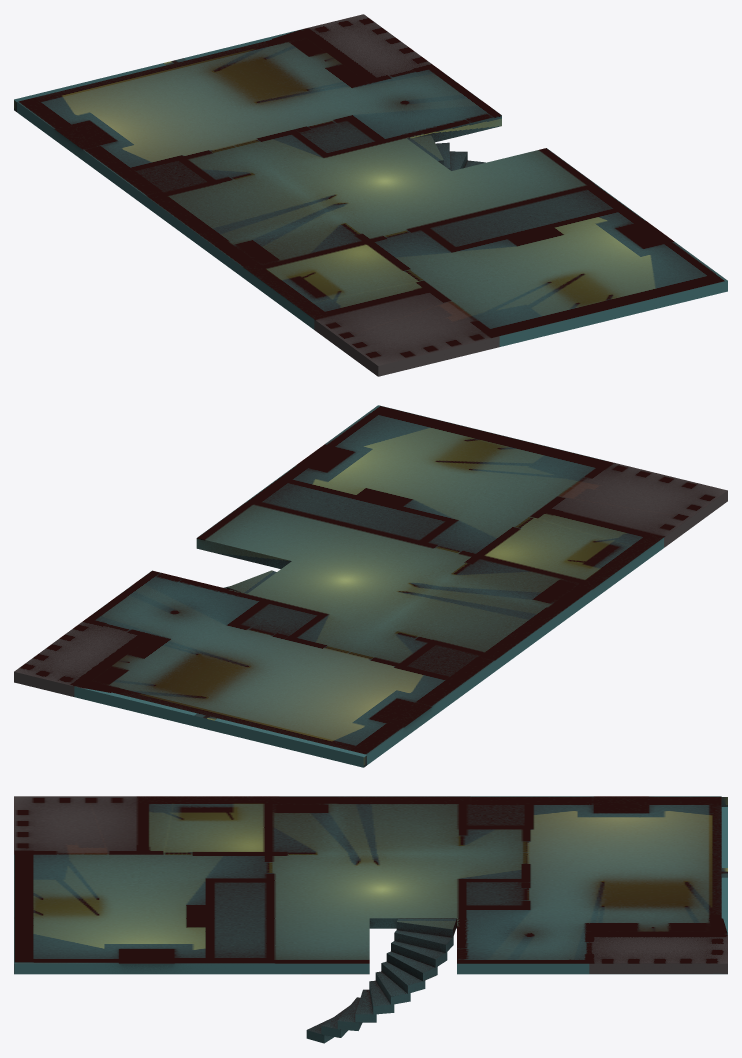
File: floor3_ground.obj
3 renders of one model, top to bottom at view 1: azimuth 30°, elevation 25°; view 2: azimuth 150°, elevation 25°; view 3: azimuth 270°, elevation 25°, orthographic. The views are drawn at different scales.
Visible parts, largest first — view 1: Cube.318_Cube.569; view 2: Cube.318_Cube.569; view 3: Cube.318_Cube.569.
Boxes of the visible parts, x1=… form: Cube.318_Cube.569: x1=14, y1=14, x2=727, y2=376; Cube.318_Cube.569: x1=14, y1=405, x2=727, y2=767; Cube.318_Cube.569: x1=14, y1=796, x2=727, y2=1043.
Size of the model in its own units: 7.74 by 1.99 by 13.95.
3 materials, 3 textured.
